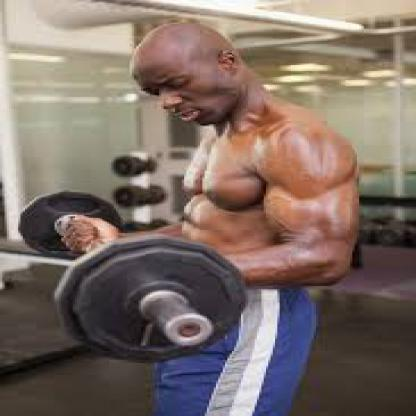barbell: (16, 188, 248, 366)
